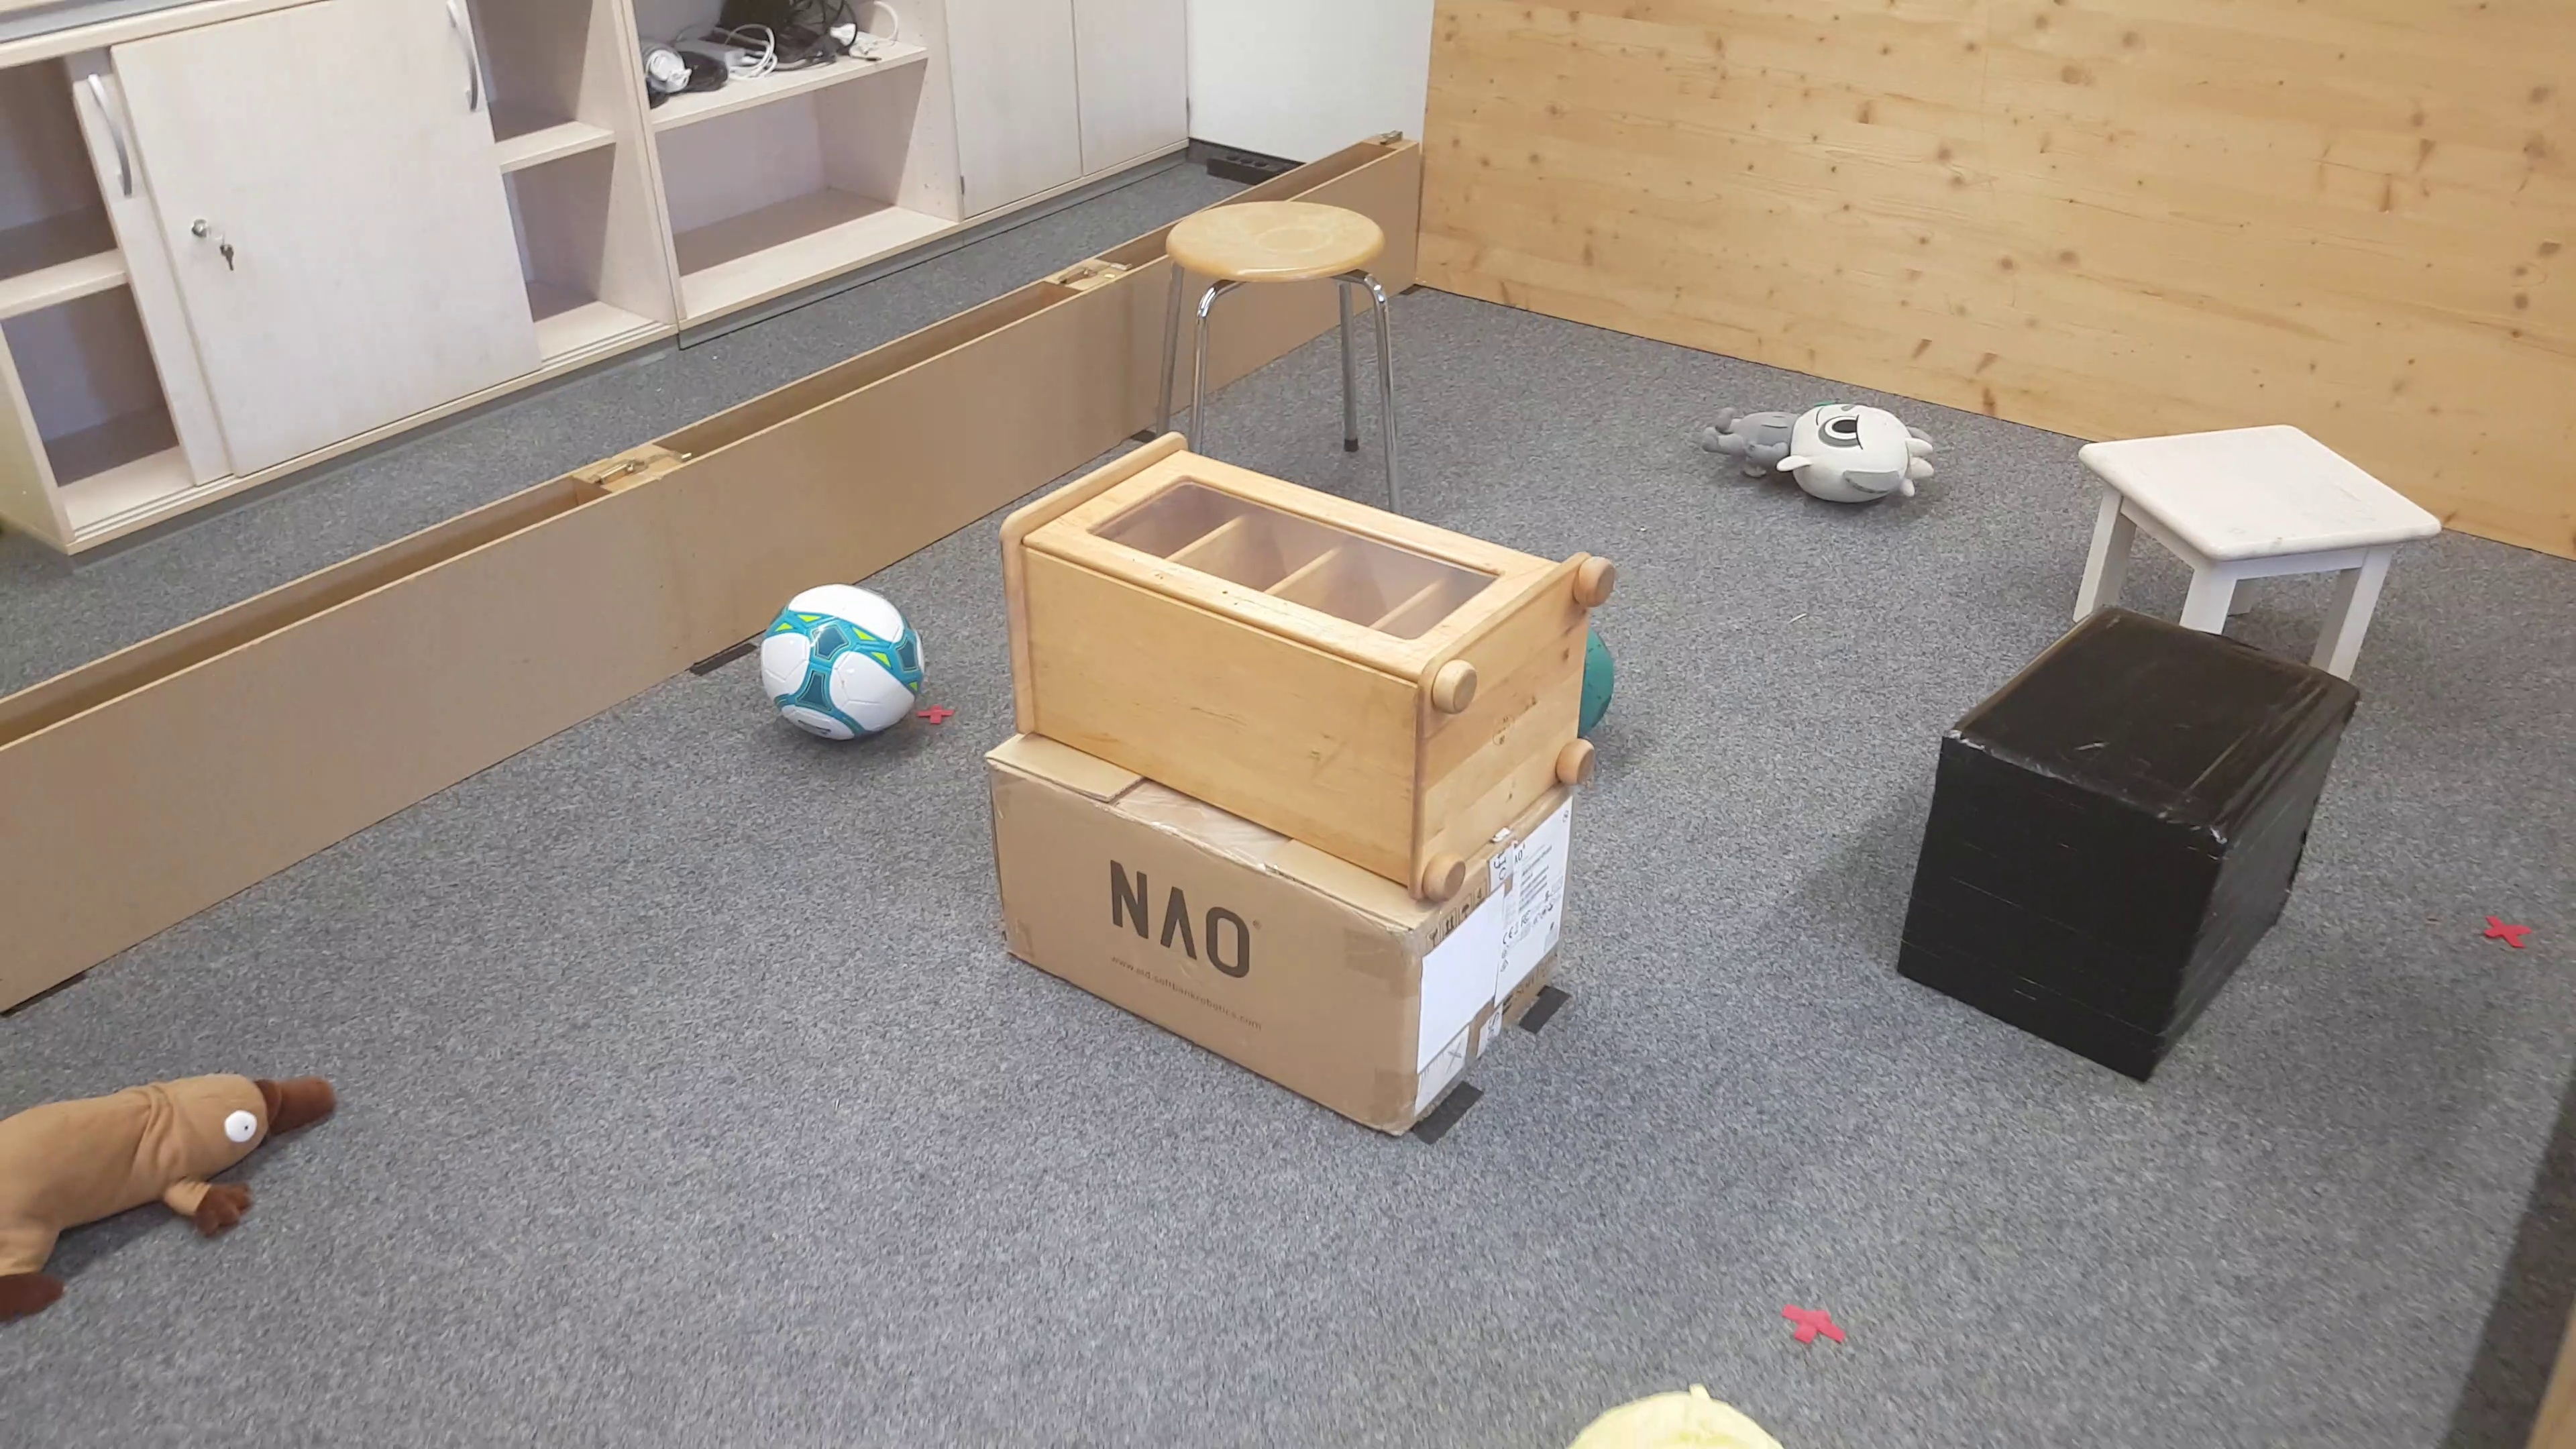grasp: (2, 1065, 336, 1323), (1698, 395, 1944, 518), (1553, 1380, 1767, 1449)
kick: (750, 579, 931, 752)
push: (1895, 614, 2350, 1083)
